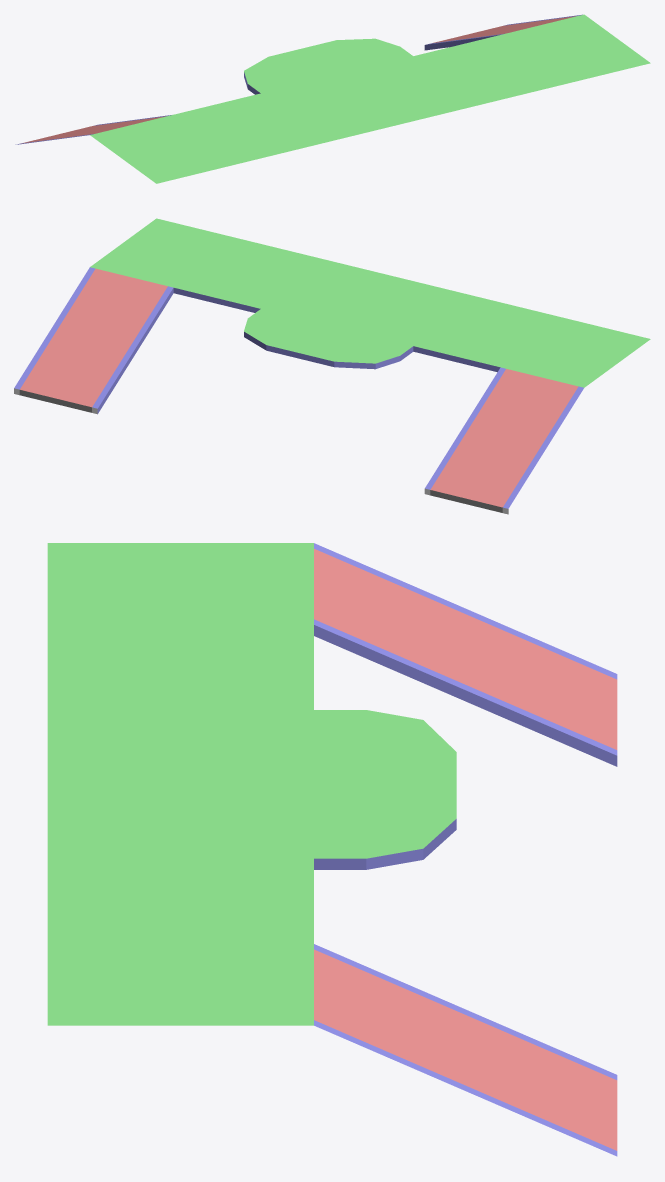
File: L2fortress_01_S__fort01_command_in_stair.gltf
3 views of the same model, one above another, from view 1: azimuth 30°, elevation 25°; view 2: azimuth 150°, elevation 25°; view 3: azimuth 270°, elevation 25° (orthographic). The views are drawn at different scales.
Visible parts, largest first — view 1: fort01_command_in_stair; view 2: fort01_command_in_stair; view 3: fort01_command_in_stair.
Part boxes in pixels (left/top/right/bottom): fort01_command_in_stair: left=15, top=14, right=650, bottom=183; fort01_command_in_stair: left=14, top=218, right=650, bottom=514; fort01_command_in_stair: left=47, top=543, right=617, bottom=1156.
Bounding box in the file's own units: 12 × 1.65 × 5.99.
